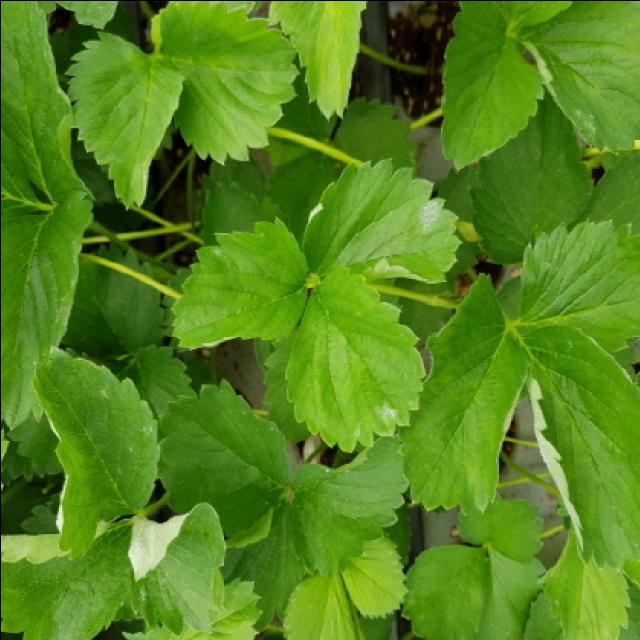Powdery Mildew Leaf: (393, 272, 530, 519), (515, 317, 638, 585), (26, 343, 161, 560), (281, 264, 426, 452), (300, 156, 462, 282), (167, 214, 312, 350), (515, 2, 638, 156), (0, 516, 134, 640), (125, 500, 226, 635)
